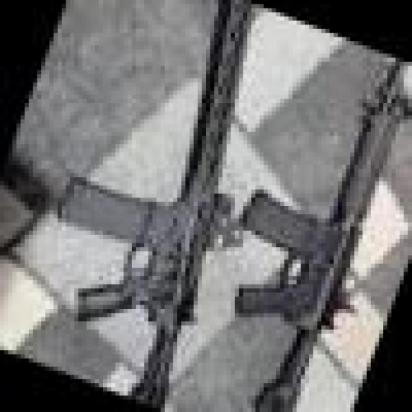Gun: (60, 0, 254, 408), (232, 56, 411, 412)
